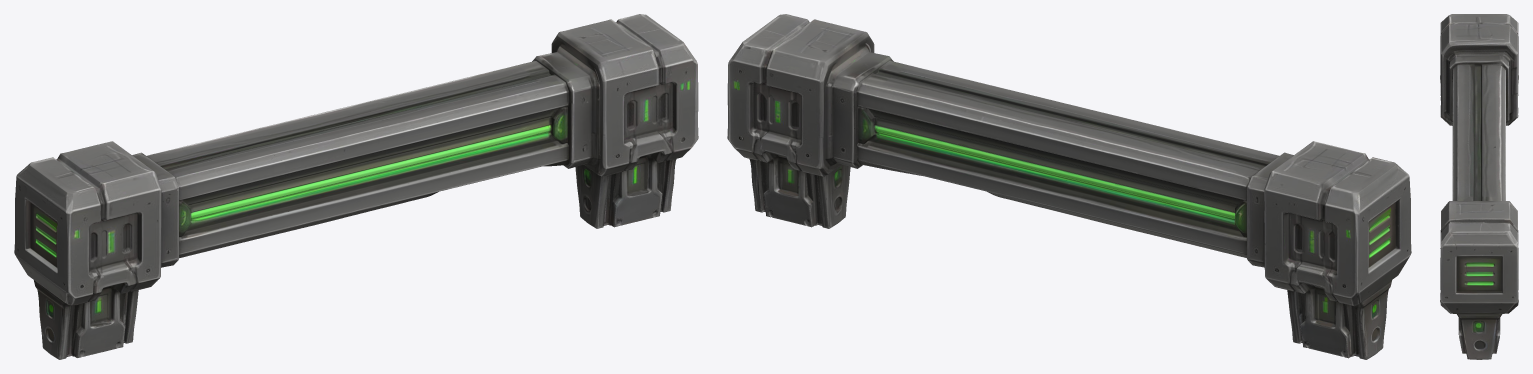
Rendered from green-beam.glb.
3 renders of one model, left to right at view 1: azimuth 30°, elevation 25°; view 2: azimuth 150°, elevation 25°; view 3: azimuth 270°, elevation 25°, orthographic. The views are drawn at different scales.
Visible parts, largest first — view 1: material; view 2: material; view 3: material.
Boxes of the visible parts, x1,y1,x2,y2 form: material: (14,14,698,359); material: (727,14,1411,359); material: (1440,14,1518,359).
Bounding box in the file's own units: 1.16 × 0.3153 × 0.1734.
Materials: 1 (1 with a texture image).
